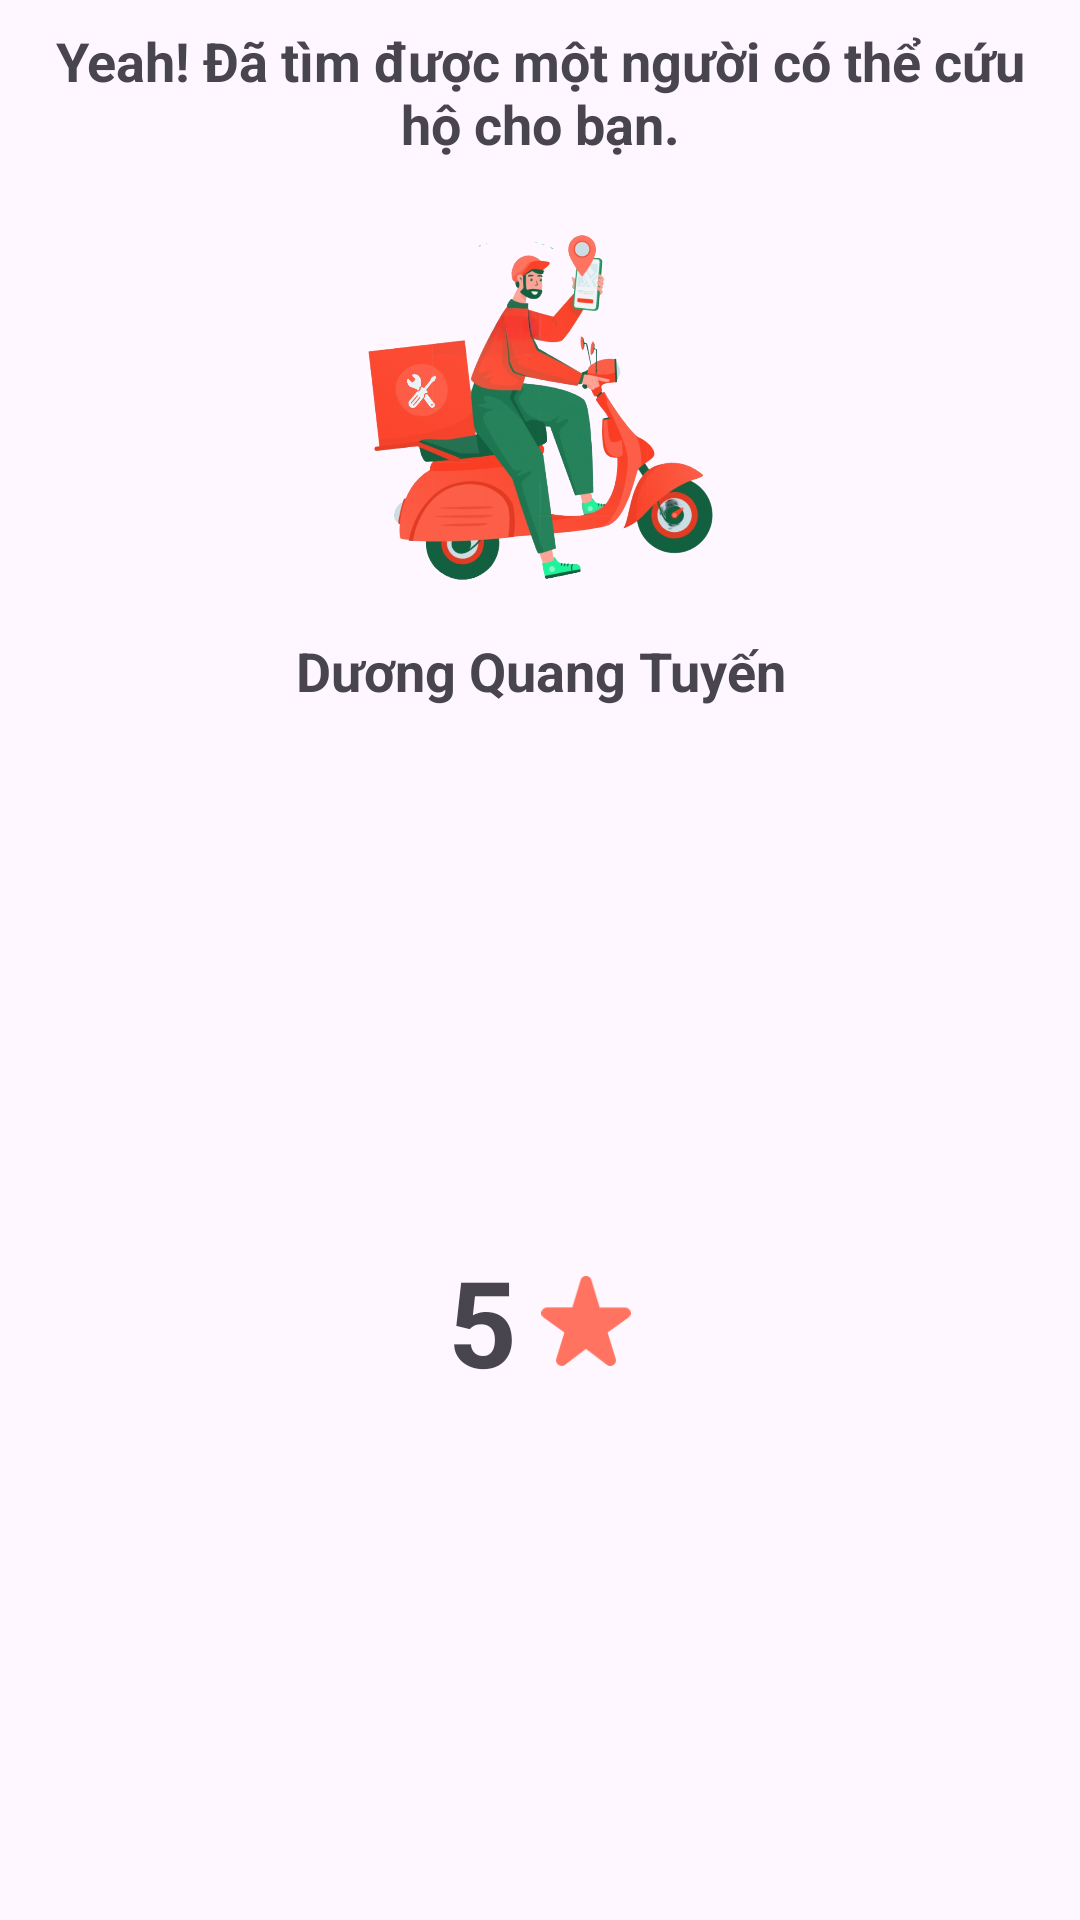

Icon click points for this 1080x1920 phone screenshot, format [x,y]:
one star: [586,1321]
rescue: [540,407]
